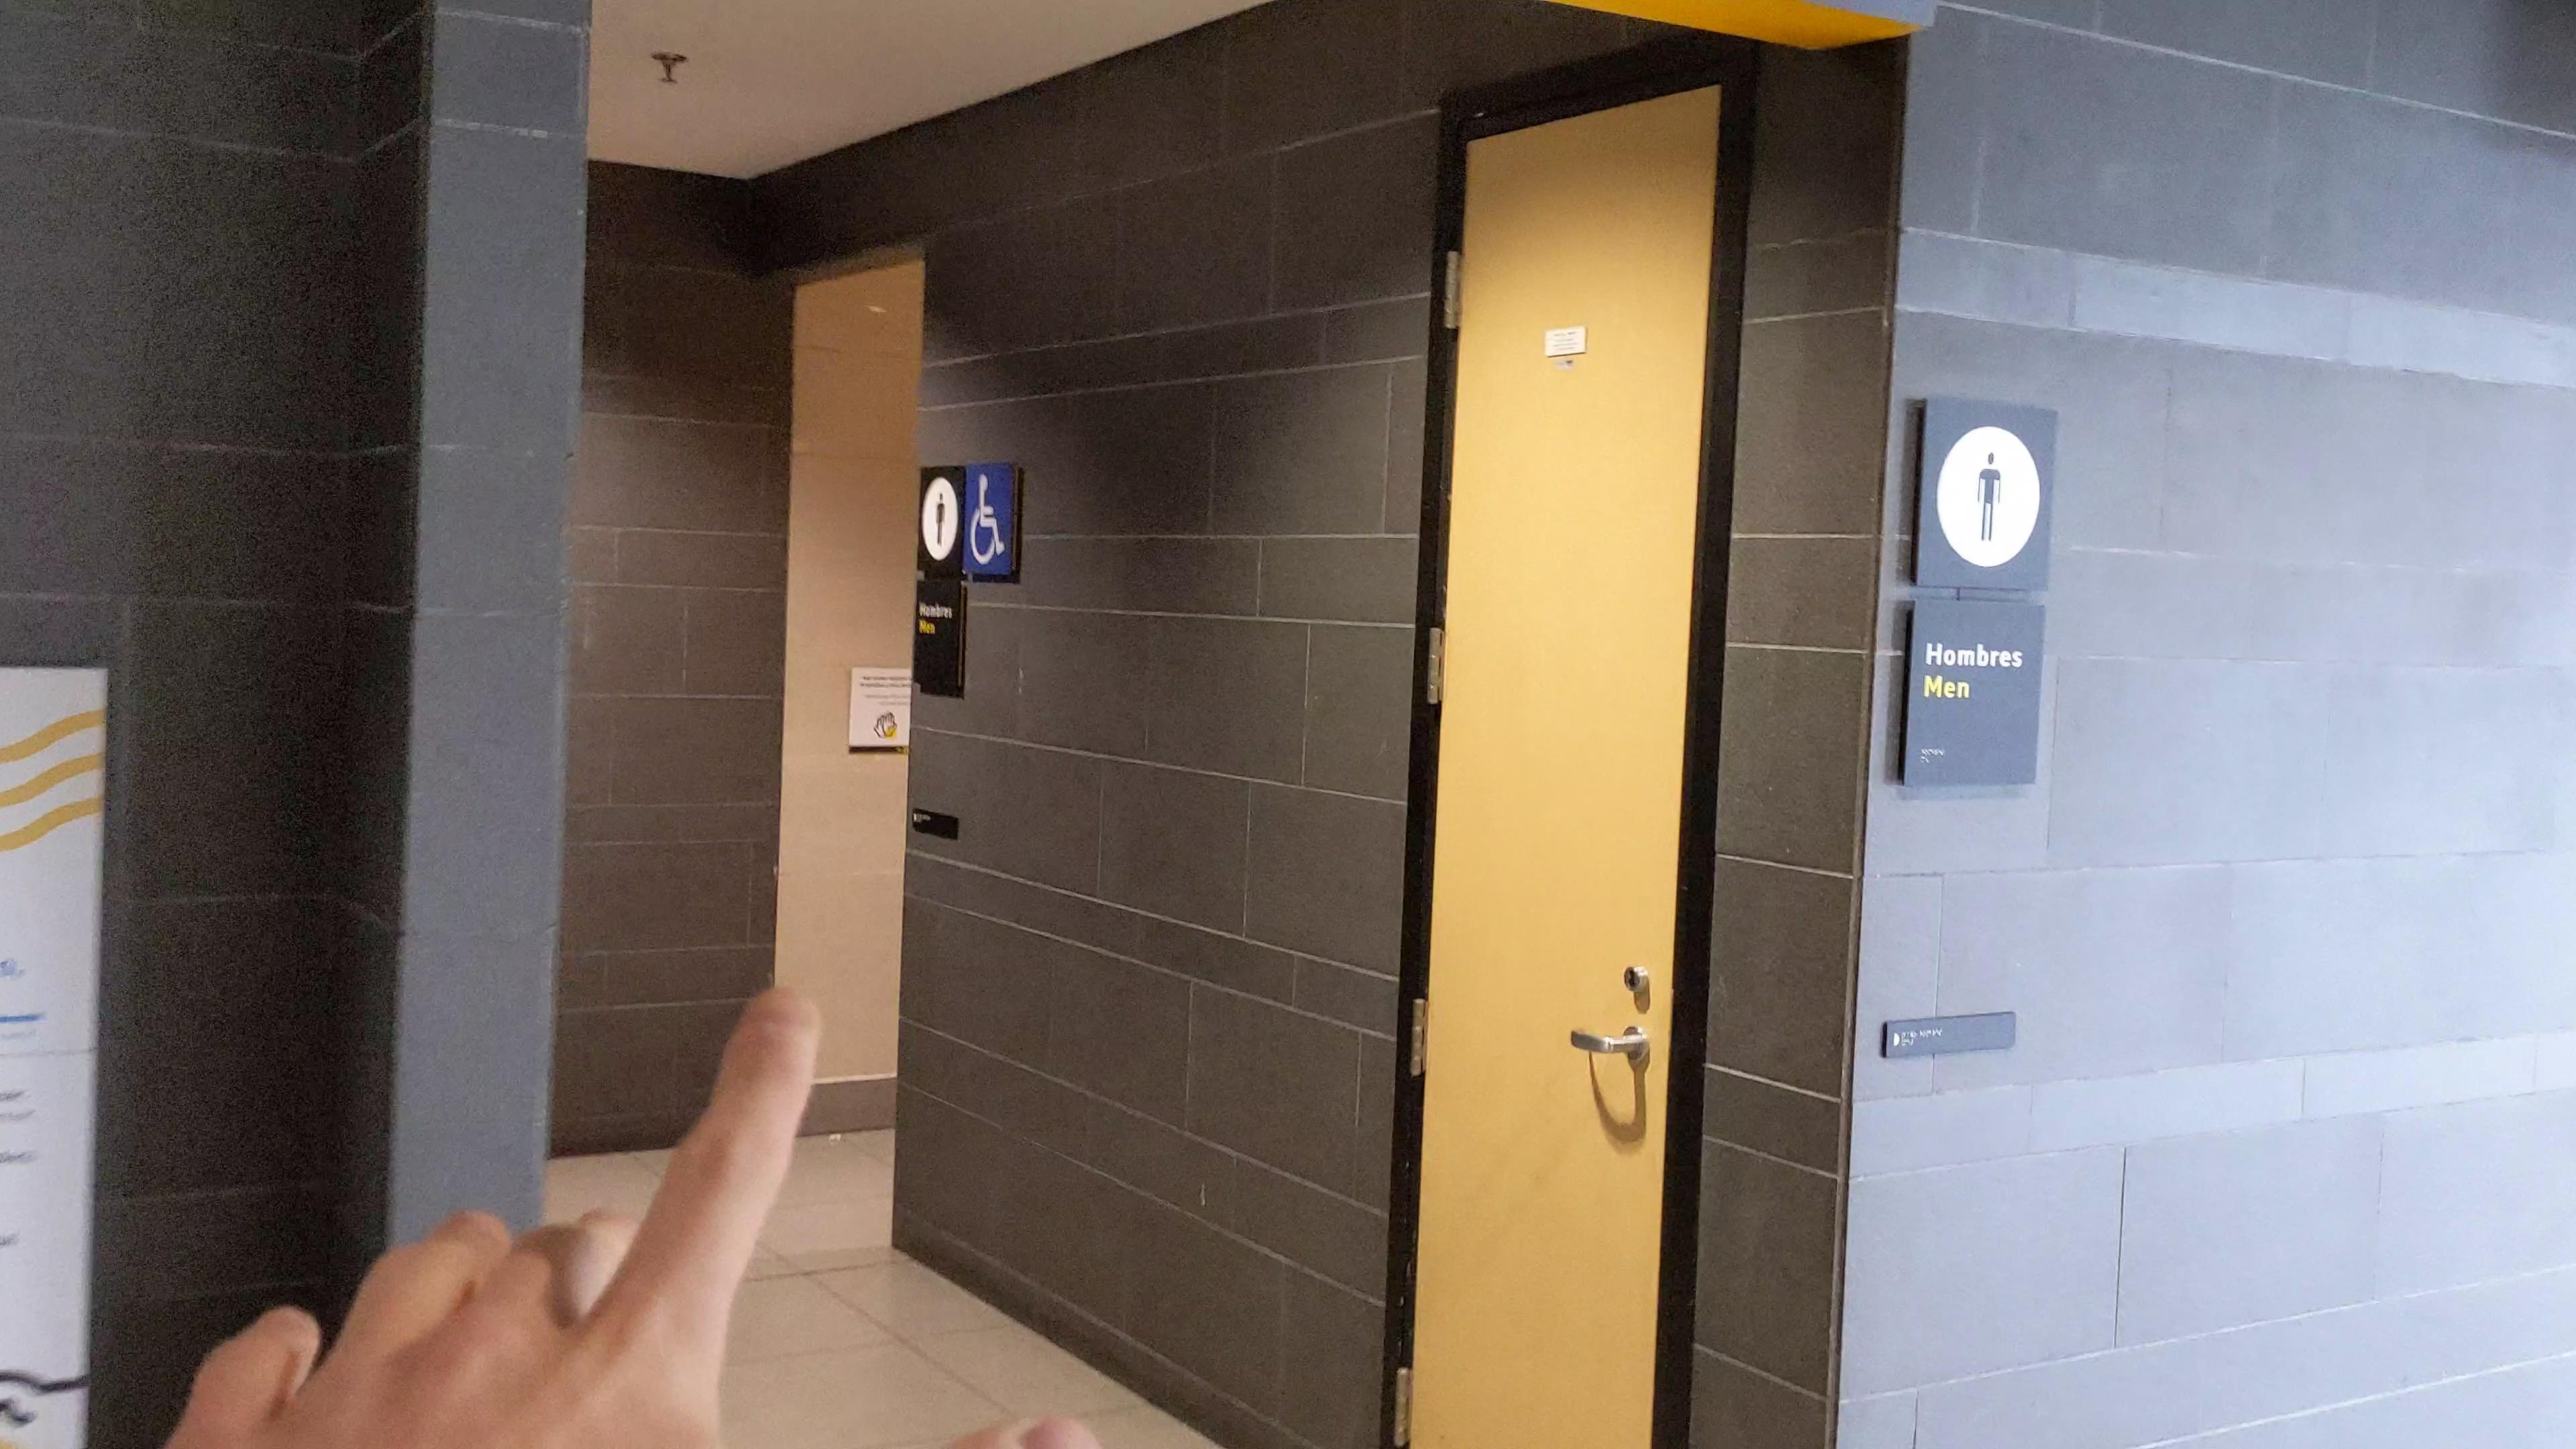handicapped symbol: (970, 472, 1007, 566)
